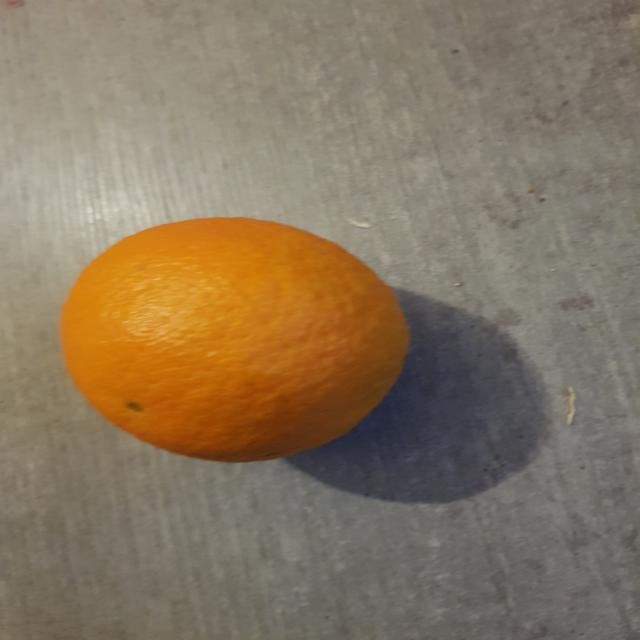Orange: (58, 217, 412, 466)
